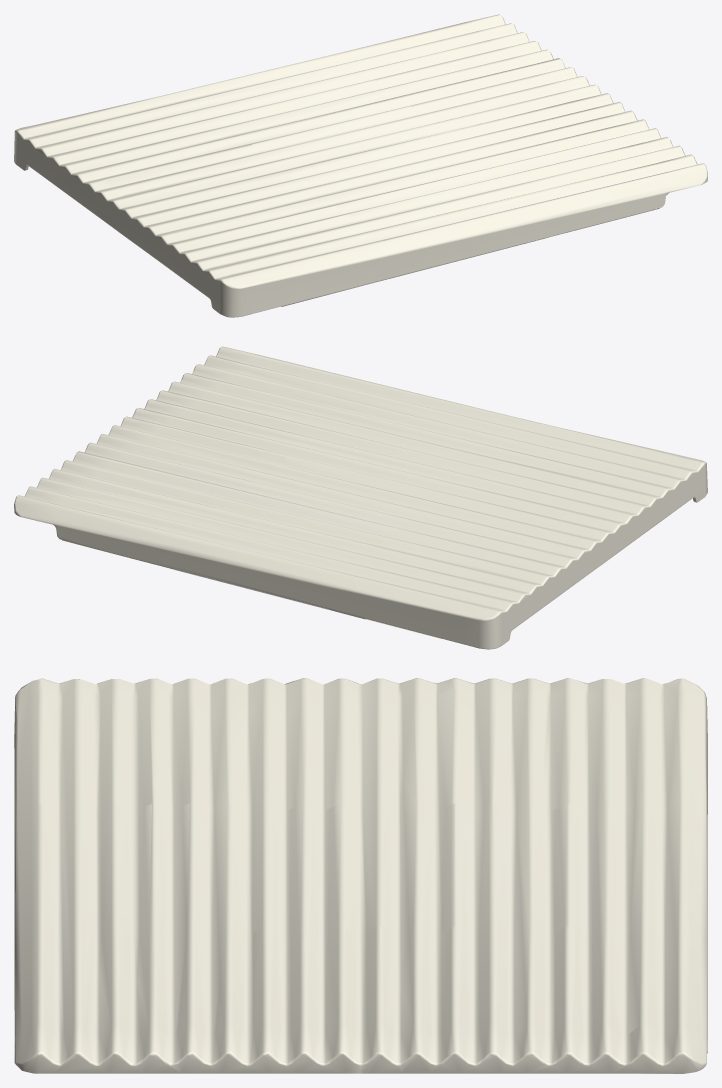
Rendered from rinnig_suszarka_do_naczyn_dwustronna_60601348.glb.
3 views of the same model, one above another, from view 1: azimuth 30°, elevation 25°; view 2: azimuth 150°, elevation 25°; view 3: azimuth 270°, elevation 25° (orthographic). The views are drawn at different scales.
Parts seen in each view (by area): view 1: rinnig_suszarka_do_naczyn_dwustronna_60601348; view 2: rinnig_suszarka_do_naczyn_dwustronna_60601348; view 3: rinnig_suszarka_do_naczyn_dwustronna_60601348.
Part boxes in pixels (x1,y1,x2,y2): rinnig_suszarka_do_naczyn_dwustronna_60601348: (14,14,707,317); rinnig_suszarka_do_naczyn_dwustronna_60601348: (14,346,707,649); rinnig_suszarka_do_naczyn_dwustronna_60601348: (14,678,707,1073).
Size of the model in its own units: 0.3981 by 0.0272 by 0.3126.
1 material, 1 textured.
